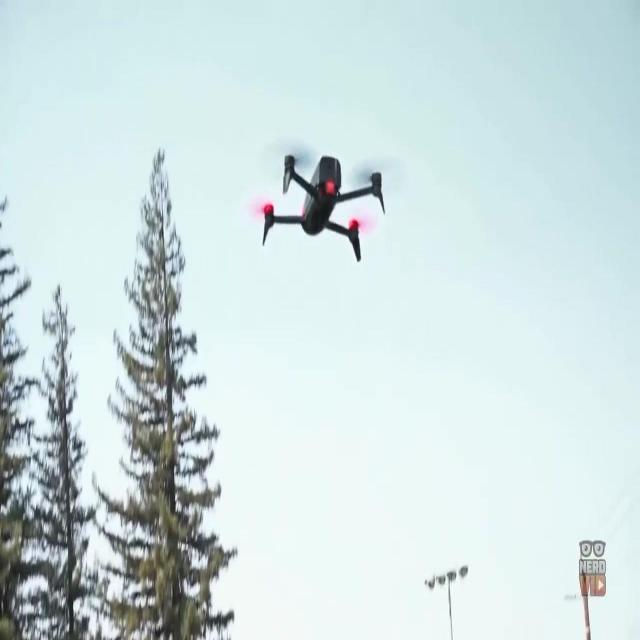UAV: (253, 150, 385, 262)
